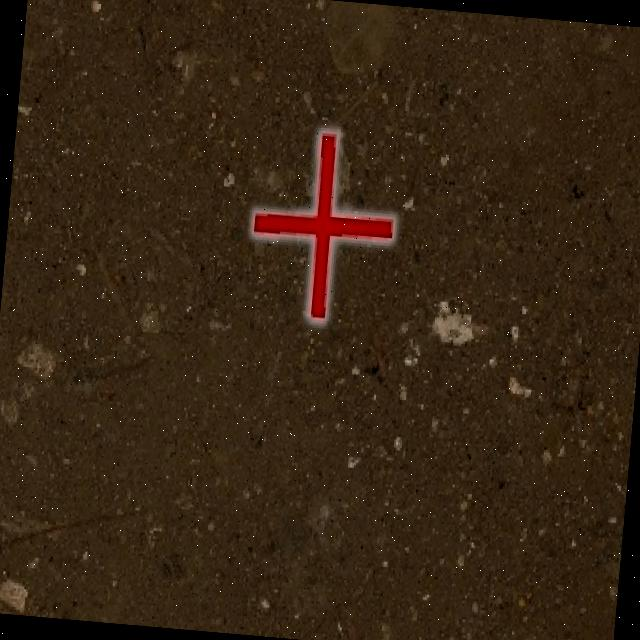x_marker: (246, 126, 400, 324)
